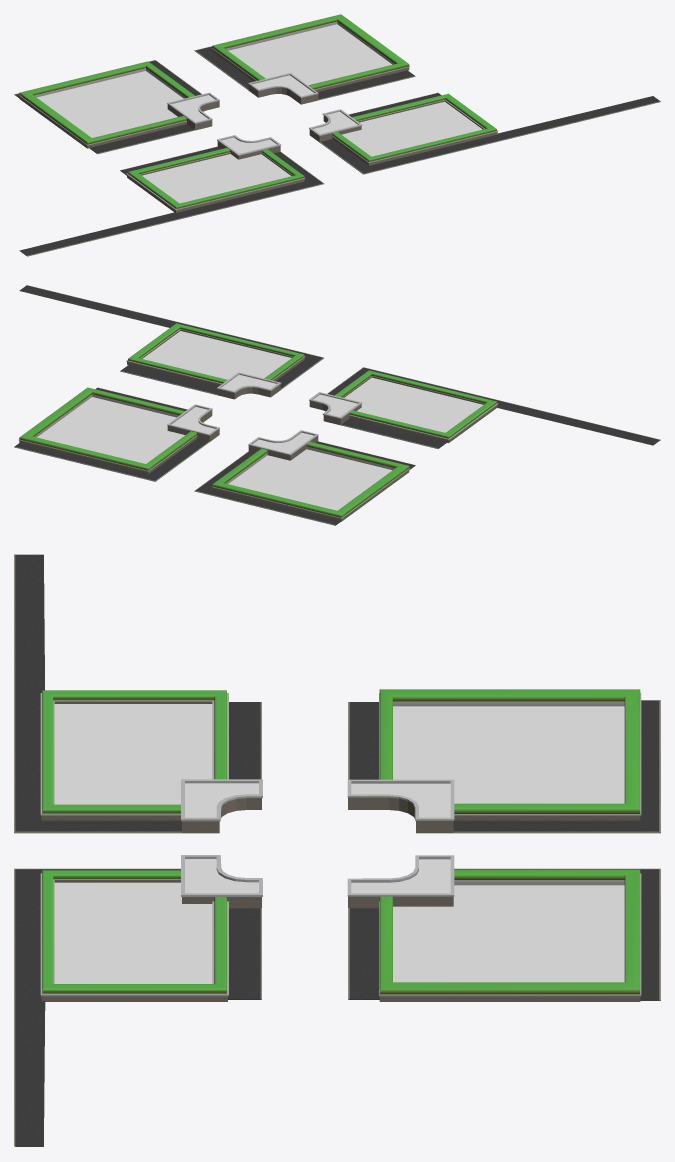
Rendered from MiddleSpawn.fbx.
3 views of the same model, one above another, from view 1: azimuth 30°, elevation 25°; view 2: azimuth 150°, elevation 25°; view 3: azimuth 270°, elevation 25° (orthographic). The views are drawn at different scales.
Visible parts, largest first — view 1: BigGarden1, BingGarden2, Tamanjalan1, BigGarden1.001, BingGarden2.001, Tamanjalan3, MiniGarden2, MiniGarden1, Tamanjalan2; view 2: BigGarden1, BingGarden2, BigGarden1.001, Tamanjalan1, BingGarden2.001, Tamanjalan2, Tamanjalan3, MiniGarden2, MiniGarden1; view 3: BigGarden1, BingGarden2, Tamanjalan1, BigGarden1.001, BingGarden2.001, Tamanjalan3, MiniGarden2, Tamanjalan2, MiniGarden1.
Part boxes in pixels (x1,y1,x2,y2): BigGarden1: (18, 21, 409, 148); BingGarden2: (126, 99, 498, 212); Tamanjalan1: (19, 96, 660, 256); BigGarden1.001: (19, 14, 409, 144); BingGarden2.001: (128, 93, 496, 208); Tamanjalan3: (89, 70, 441, 175); MiniGarden2: (167, 73, 318, 130); MiniGarden1: (217, 109, 362, 159); Tamanjalan2: (14, 46, 253, 97); BigGarden1: (18, 394, 409, 521); BingGarden2: (126, 329, 498, 442); BigGarden1.001: (19, 387, 409, 517); Tamanjalan1: (19, 285, 660, 445); BingGarden2.001: (128, 323, 496, 438); Tamanjalan2: (14, 439, 340, 525); Tamanjalan3: (95, 364, 446, 469); MiniGarden2: (167, 404, 318, 460); MiniGarden1: (217, 372, 362, 425); BigGarden1: (379, 693, 641, 1001); BingGarden2: (40, 693, 228, 1001); Tamanjalan1: (14, 554, 182, 1146); BigGarden1.001: (379, 689, 640, 994); BingGarden2.001: (42, 690, 226, 993); Tamanjalan3: (228, 702, 379, 999); MiniGarden2: (347, 779, 454, 908); Tamanjalan2: (453, 700, 660, 1000); MiniGarden1: (181, 779, 262, 908).
Size of what is drawn, in the model's own units: 18077 by 206 by 8344.
